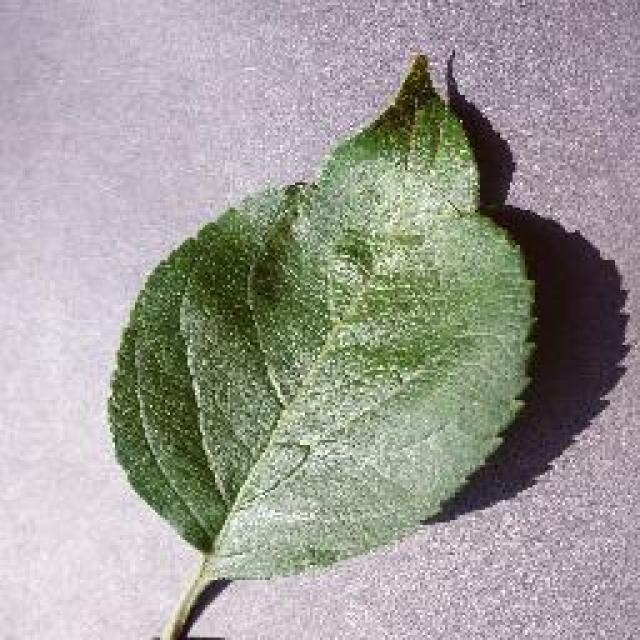apple healthy: (102, 50, 542, 638)
